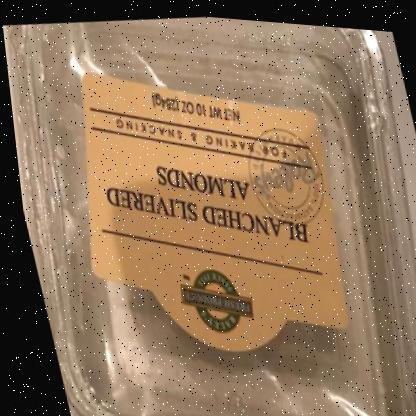Plastic: (7, 13, 416, 416)
